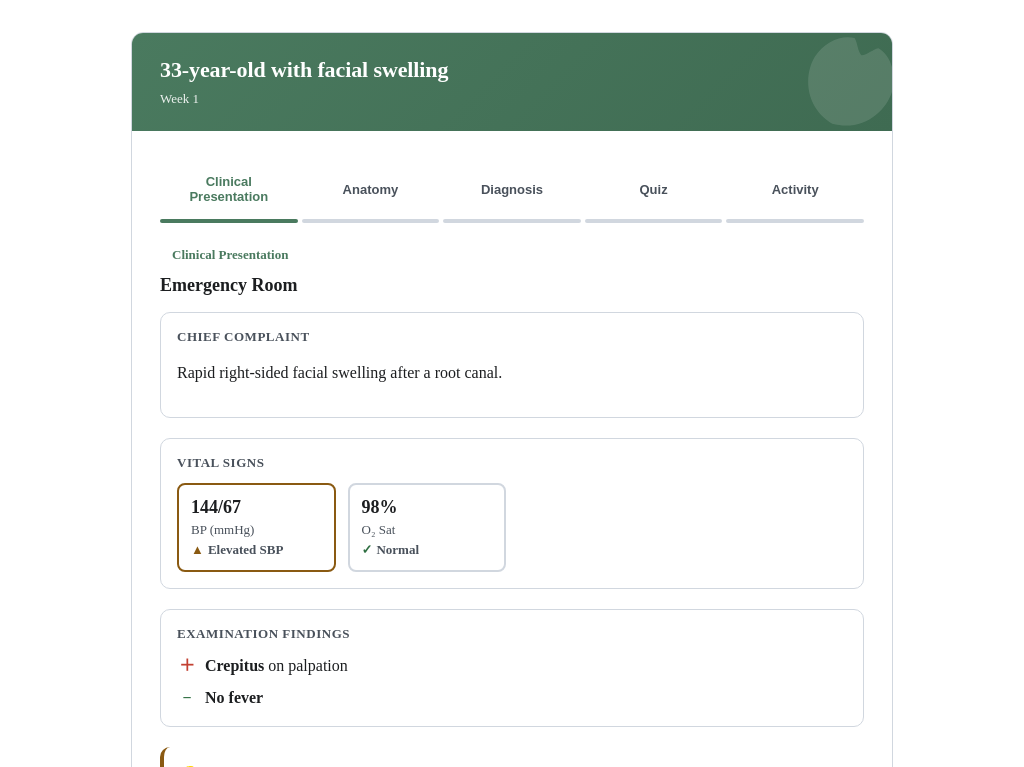
Test: ClinicalCase › navigates between sections via the stepper
Click the button "Quiz". click: (654, 189)
box: [585,167,722,211]
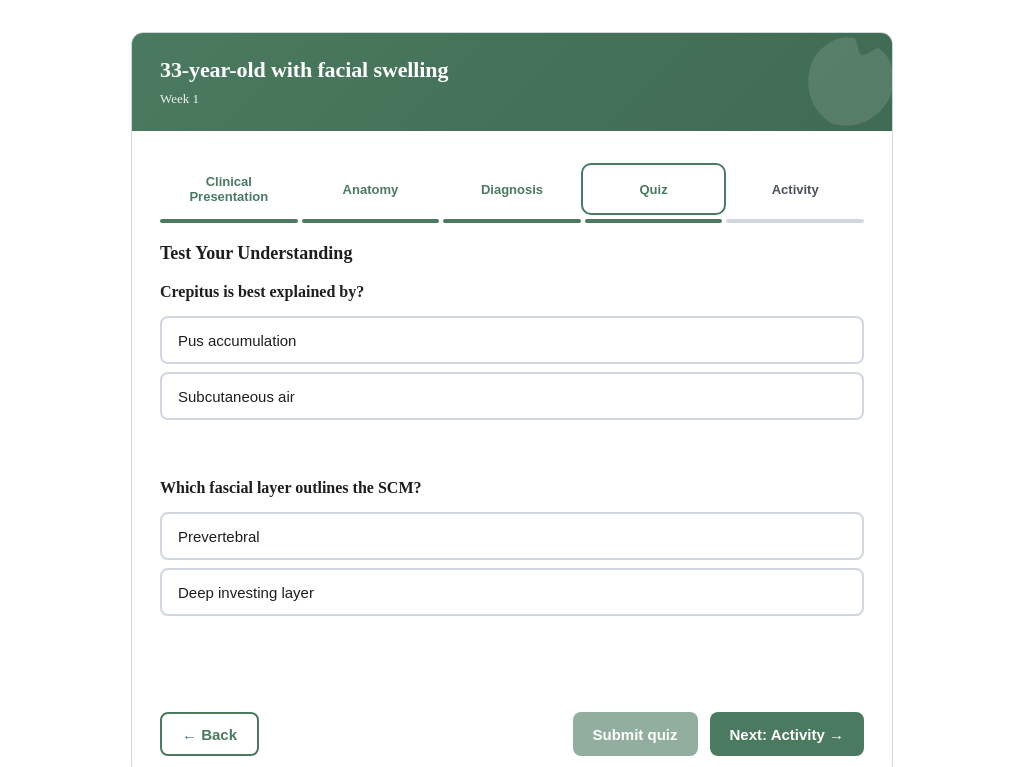
expect the heading "Test Your Understanding" is shown: met, box [160,243,352,263]
